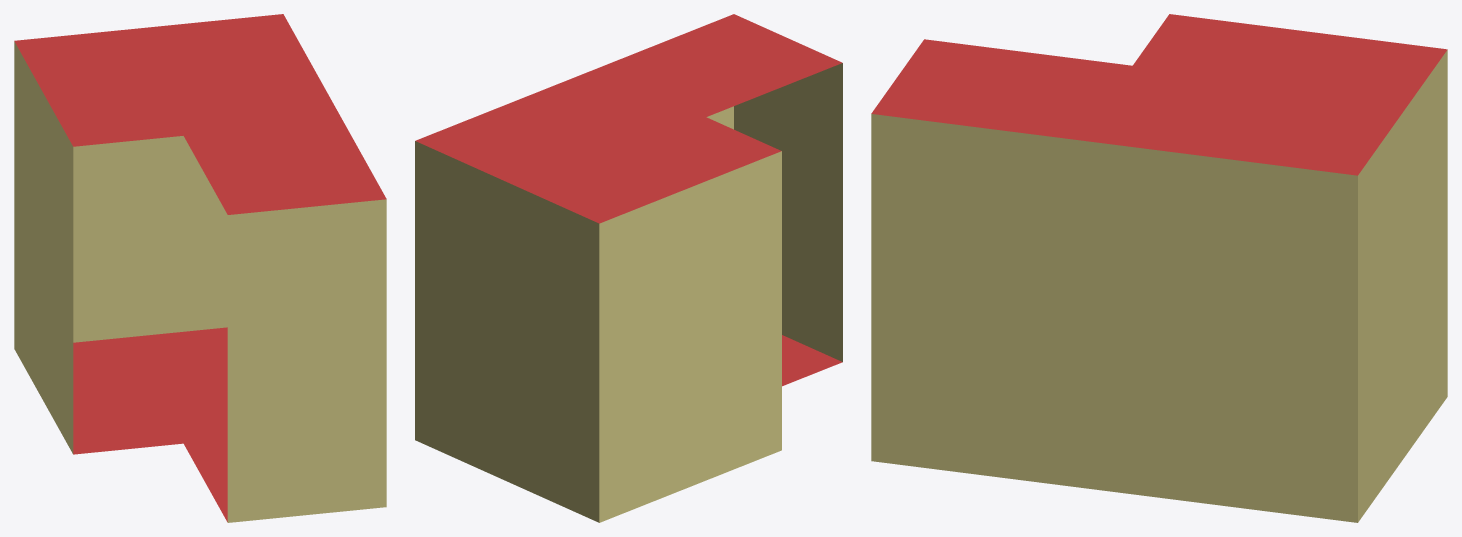
3 views of the same model, side by side, from view 1: azimuth 30°, elevation 25°; view 2: azimuth 150°, elevation 25°; view 3: azimuth 270°, elevation 25° (orthographic). The views are drawn at different scales.
Visible parts, largest first — view 1: group_4, group_3, group_5; view 2: group_4, group_3, group_5; view 3: group_4, group_3.
Boxes of the visible parts, x1,y1,x2,y2 form: group_4: (14, 41, 386, 522); group_3: (14, 14, 386, 214); group_5: (73, 327, 227, 521); group_4: (415, 63, 842, 522); group_3: (415, 14, 842, 223); group_5: (782, 335, 842, 386); group_4: (871, 50, 1447, 522); group_3: (871, 14, 1447, 175).
Bounding box in the file's own units: 6.46 × 9.73 × 6.47.
